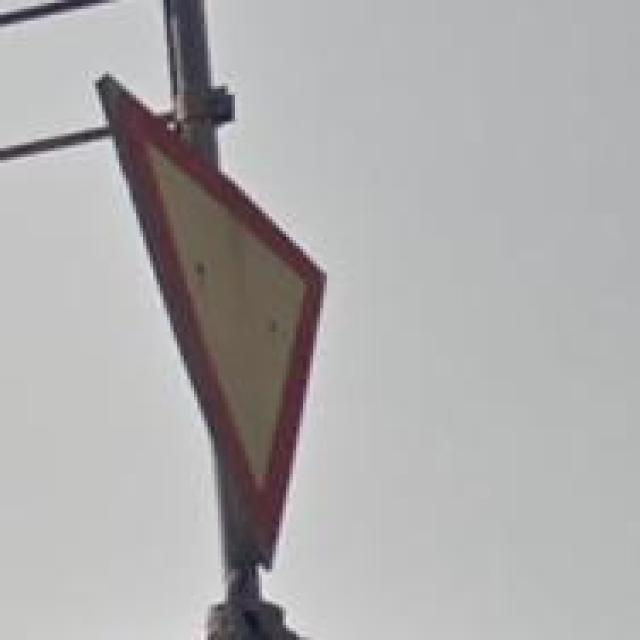give_way: (99, 74, 330, 572)
